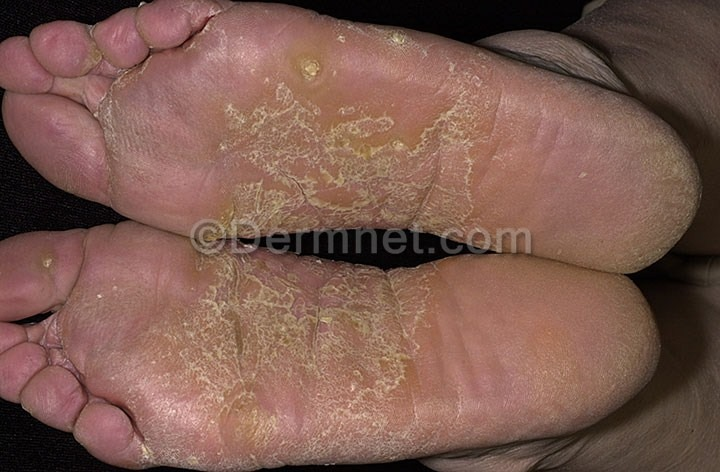Psoriasis: (176, 252, 437, 466), (214, 79, 490, 233), (80, 42, 154, 95), (281, 45, 335, 98)
